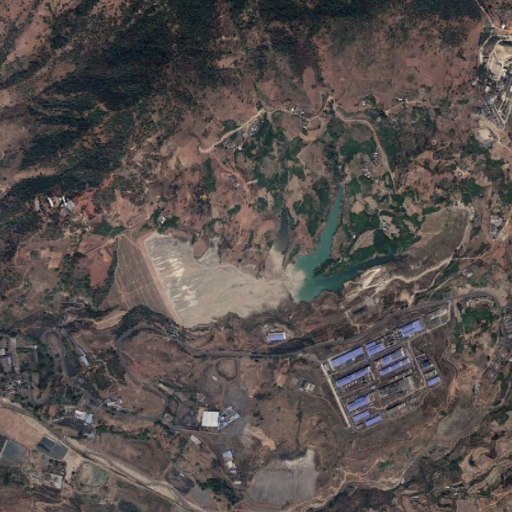tp: (101, 188, 406, 328)
